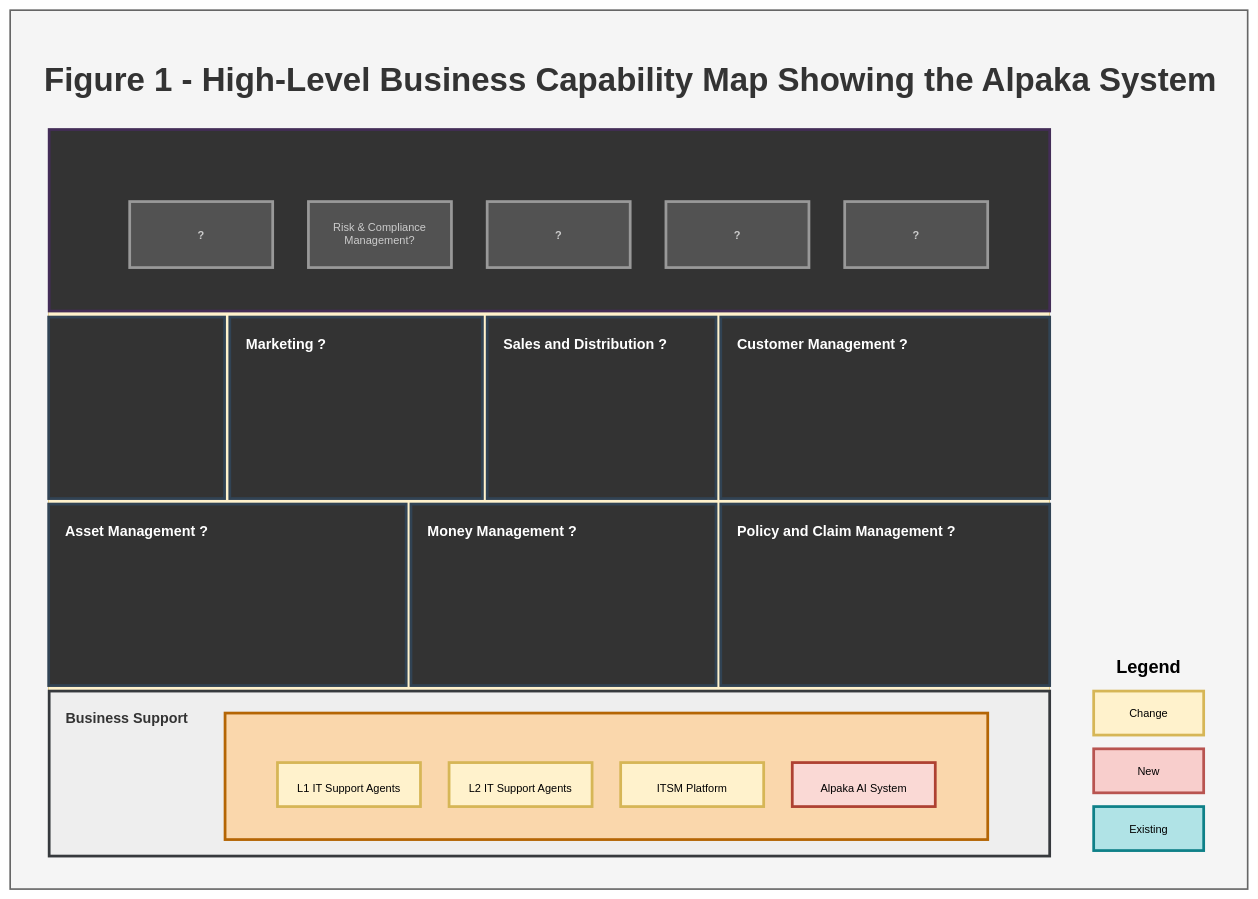
The diagram is 1258 pixels wide and 899 high, and some of its shapes have lost their labels. Here are the shapes that lost their labels. From the top down, the box of each, then its label:
(48, 128, 1051, 312): Business Management ?
(47, 315, 226, 500): Product Management ?
(223, 711, 989, 841): IT Management and Support
